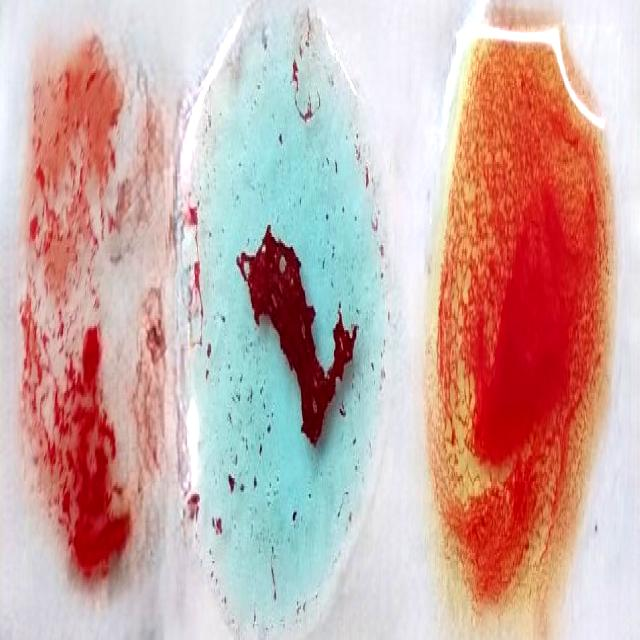A: (185, 18, 361, 640)
B: (443, 16, 605, 640)
D: (27, 59, 172, 571)
